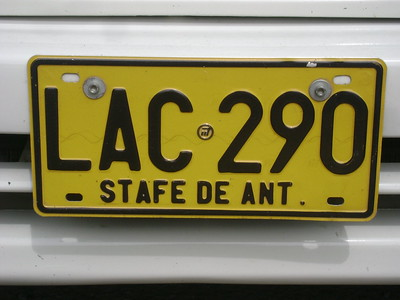placa_carro: (28, 52, 383, 227)
